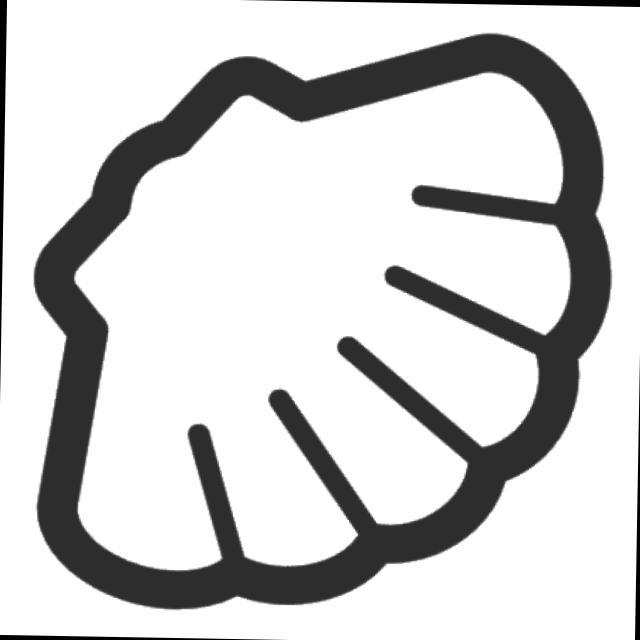shell: (11, 9, 632, 627)
